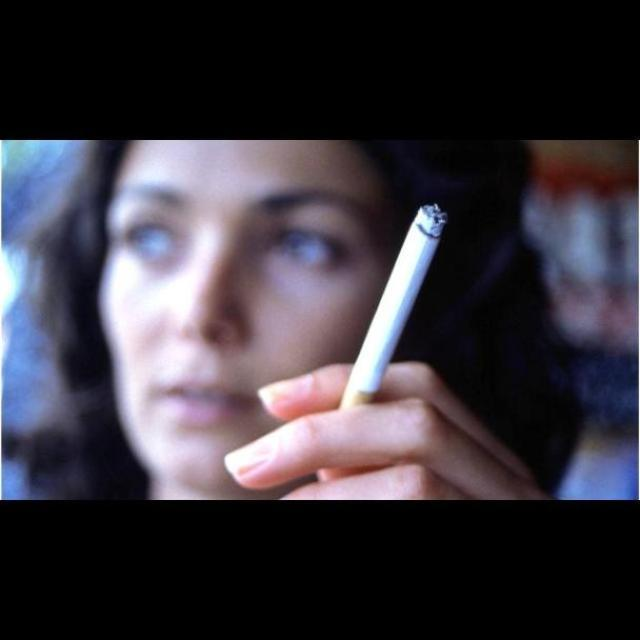rokok: (336, 199, 446, 407)
